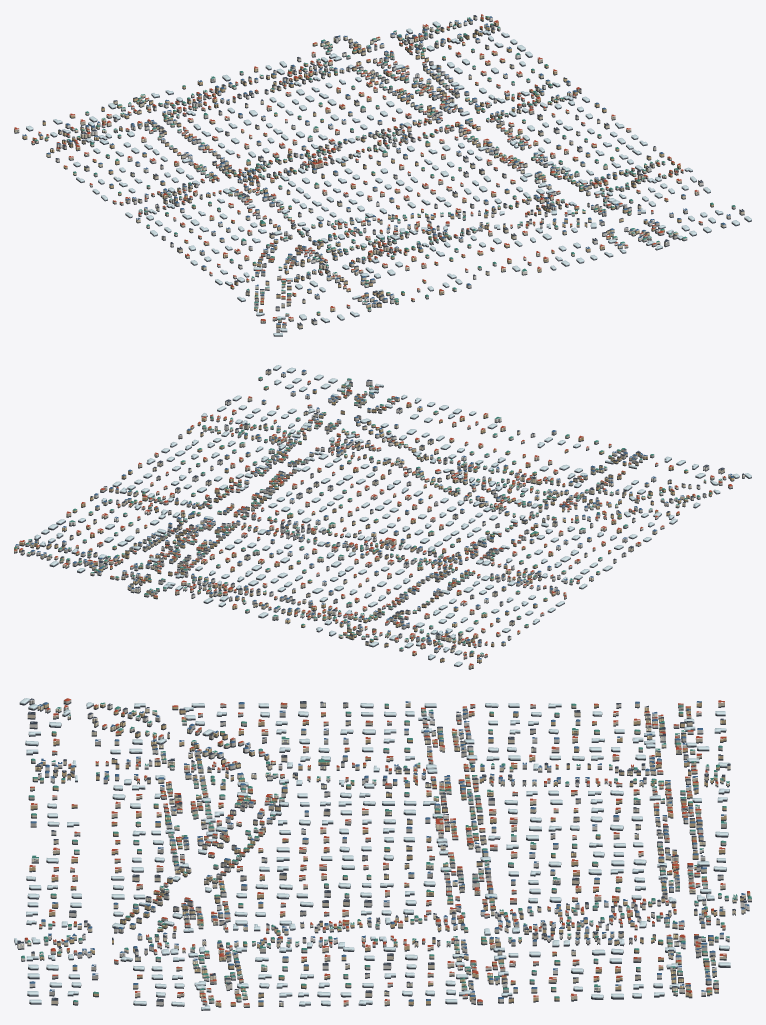
The model's file is osm_buildings_T_W01_N03.glb.
The picture shows the model from 3 angles, top to bottom: view 1: azimuth 30°, elevation 25°; view 2: azimuth 150°, elevation 25°; view 3: azimuth 270°, elevation 25°; orthographic projection. The views are drawn at different scales.
Parts seen in each view (by area): view 1: OSM_T_W01_N03_foundation, OSM_T_W01_N03_greenhouse_blend, OSM_T_W01_N03_wall_cream_stucco, OSM_T_W01_N03_wall_french_ochre, OSM_T_W01_N03_wall_warm_white, OSM_T_W01_N03_wall_pastel_sand, OSM_T_W01_N03_roof_terracotta, OSM_T_W01_N03_roof_mint_metal, OSM_T_W01_N03_roof_alpine_blue, OSM_T_W01_N03_roof_mansard_slate; view 2: OSM_T_W01_N03_foundation, OSM_T_W01_N03_greenhouse_blend, OSM_T_W01_N03_wall_cream_stucco, OSM_T_W01_N03_wall_french_ochre, OSM_T_W01_N03_wall_warm_white, OSM_T_W01_N03_wall_pastel_sand, OSM_T_W01_N03_roof_terracotta, OSM_T_W01_N03_roof_mint_metal, OSM_T_W01_N03_roof_alpine_blue, OSM_T_W01_N03_roof_mansard_slate; view 3: OSM_T_W01_N03_foundation, OSM_T_W01_N03_greenhouse_blend, OSM_T_W01_N03_wall_cream_stucco, OSM_T_W01_N03_wall_french_ochre, OSM_T_W01_N03_wall_warm_white, OSM_T_W01_N03_wall_pastel_sand, OSM_T_W01_N03_roof_terracotta, OSM_T_W01_N03_roof_mint_metal, OSM_T_W01_N03_roof_mansard_slate, OSM_T_W01_N03_roof_alpine_blue.
Boxes of the visible parts, <box> form: OSM_T_W01_N03_foundation: <box>14,17,751,336</box>; OSM_T_W01_N03_greenhouse_blend: <box>26,21,751,335</box>; OSM_T_W01_N03_wall_cream_stucco: <box>14,15,744,328</box>; OSM_T_W01_N03_wall_french_ochre: <box>22,16,713,327</box>; OSM_T_W01_N03_wall_warm_white: <box>55,16,726,324</box>; OSM_T_W01_N03_wall_pastel_sand: <box>31,20,735,332</box>; OSM_T_W01_N03_roof_terracotta: <box>14,14,702,323</box>; OSM_T_W01_N03_roof_mint_metal: <box>34,16,735,319</box>; OSM_T_W01_N03_roof_alpine_blue: <box>22,16,730,324</box>; OSM_T_W01_N03_roof_mansard_slate: <box>42,15,744,329</box>; OSM_T_W01_N03_foundation: <box>14,367,751,669</box>; OSM_T_W01_N03_greenhouse_blend: <box>34,365,751,665</box>; OSM_T_W01_N03_wall_cream_stucco: <box>14,370,732,668</box>; OSM_T_W01_N03_wall_french_ochre: <box>14,384,734,662</box>; OSM_T_W01_N03_wall_warm_white: <box>15,370,709,652</box>; OSM_T_W01_N03_wall_pastel_sand: <box>25,373,744,658</box>; OSM_T_W01_N03_roof_terracotta: <box>14,380,732,665</box>; OSM_T_W01_N03_roof_mint_metal: <box>14,376,722,654</box>; OSM_T_W01_N03_roof_alpine_blue: <box>15,369,733,659</box>; OSM_T_W01_N03_roof_mansard_slate: <box>21,369,744,659</box>; OSM_T_W01_N03_foundation: <box>14,701,751,1010</box>; OSM_T_W01_N03_greenhouse_blend: <box>14,698,730,1009</box>; OSM_T_W01_N03_wall_cream_stucco: <box>27,702,745,1006</box>; OSM_T_W01_N03_wall_french_ochre: <box>29,702,750,1006</box>; OSM_T_W01_N03_wall_warm_white: <box>17,703,749,1005</box>; OSM_T_W01_N03_wall_pastel_sand: <box>24,699,751,1005</box>; OSM_T_W01_N03_roof_terracotta: <box>25,698,750,1004</box>; OSM_T_W01_N03_roof_mint_metal: <box>21,702,751,1001</box>; OSM_T_W01_N03_roof_mansard_slate: <box>17,698,746,1002</box>; OSM_T_W01_N03_roof_alpine_blue: <box>29,701,749,1002</box>.
Size of the model in its own units: 1935 by 56.12 by 1979.
